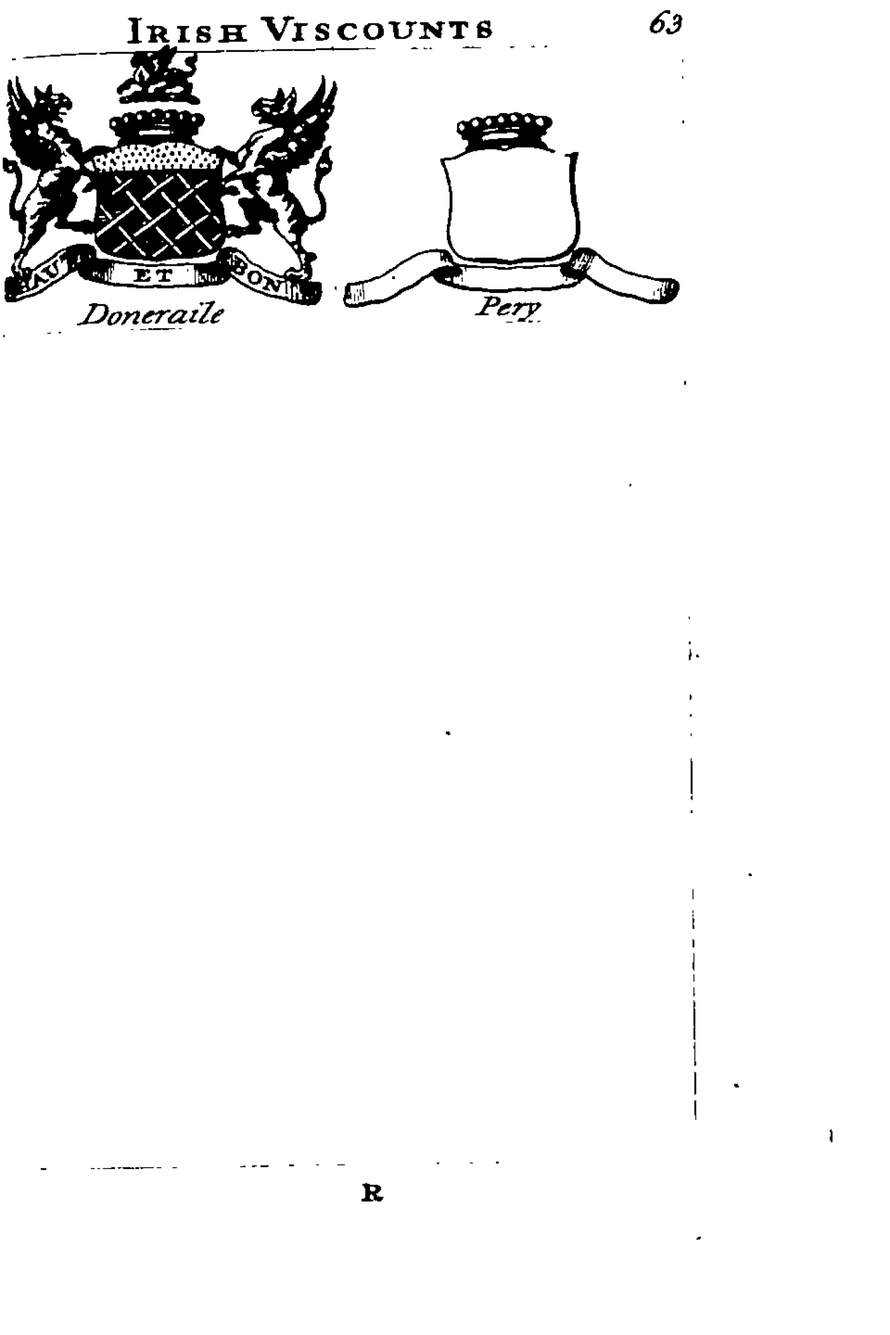coat_of_arms: (339, 60, 688, 340), (5, 59, 334, 334)
